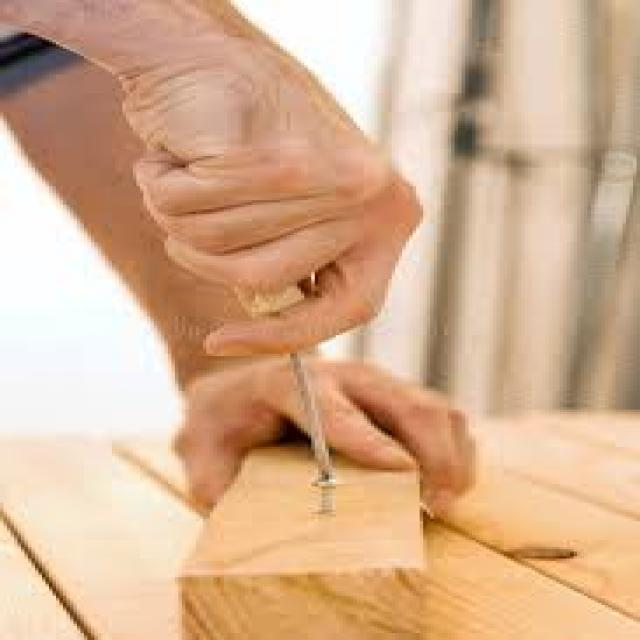screwdriver: (184, 180, 358, 492)
